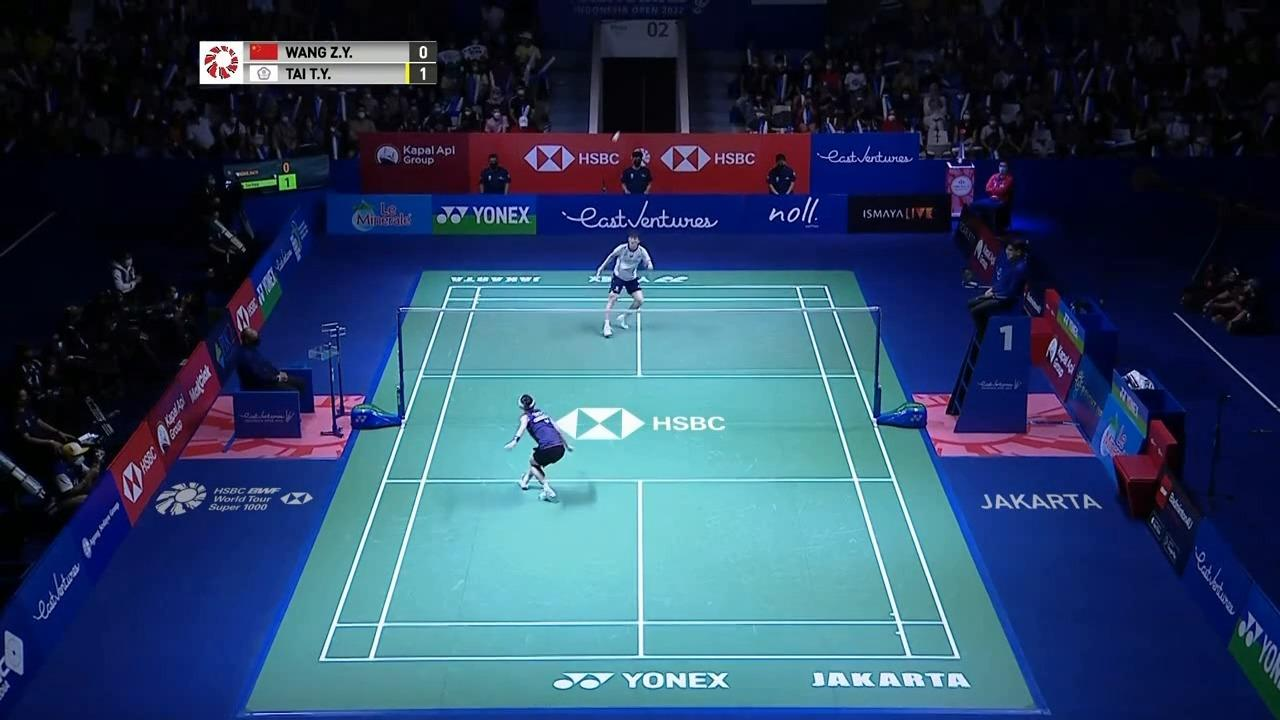shuttle: (613, 130, 620, 140)
